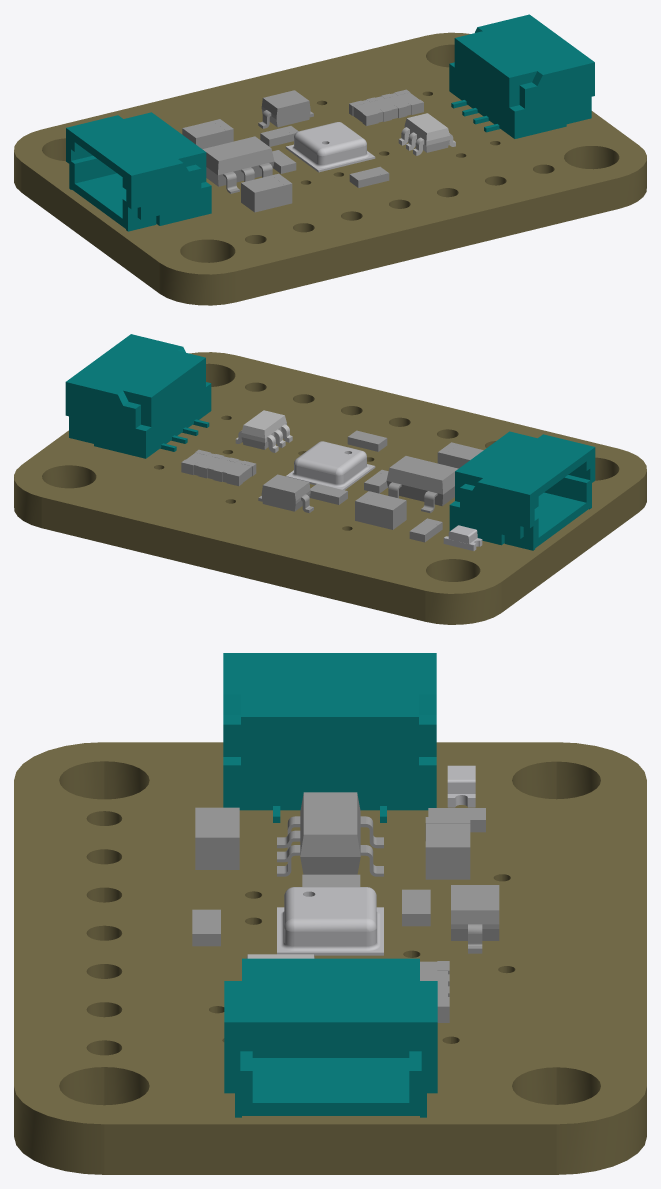
The model's file is ada-3660.glb.
3 views of the same model, one above another, from view 1: azimuth 30°, elevation 25°; view 2: azimuth 150°, elevation 25°; view 3: azimuth 270°, elevation 25° (orthographic). The views are drawn at different scales.
Visible parts, largest first — view 1: 0.16666666666666666_0.16666666666666666_0.08333333333333333_, 0_0.25_0.25_0, 0.3333333333333333_0.3333333333333333_0.3333333333333333_0, 0.5833333333333334_0.5833333333333334_0.5833333333333334_0.8, 0.5_0.5_0.5_0.85; view 2: 0.16666666666666666_0.16666666666666666_0.08333333333333333_, 0_0.25_0.25_0, 0.3333333333333333_0.3333333333333333_0.3333333333333333_0, 0.5833333333333334_0.5833333333333334_0.5833333333333334_0.8, 0.5_0.5_0.5_0.85; view 3: 0.16666666666666666_0.16666666666666666_0.08333333333333333_, 0_0.25_0.25_0, 0.3333333333333333_0.3333333333333333_0.3333333333333333_0, 0.5833333333333334_0.5833333333333334_0.5833333333333334_0.8.
Part boxes in pixels (box(x1,y1,x2,y2)): 0.16666666666666666_0.16666666666666666_0.08333333333333333_: box(14, 32, 646, 305); 0_0.25_0.25_0: box(66, 14, 594, 231); 0.3333333333333333_0.3333333333333333_0.3333333333333333_0: box(182, 89, 423, 212); 0.5833333333333334_0.5833333333333334_0.5833333333333334_0.8: box(285, 122, 375, 172); 0.5_0.5_0.5_0.85: box(398, 113, 455, 155); 0.16666666666666666_0.16666666666666666_0.08333333333333333_: box(14, 352, 646, 624); 0_0.25_0.25_0: box(65, 334, 595, 550); 0.3333333333333333_0.3333333333333333_0.3333333333333333_0: box(181, 430, 483, 542); 0.5833333333333334_0.5833333333333334_0.5833333333333334_0.8: box(286, 441, 482, 550); 0.5_0.5_0.5_0.85: box(235, 410, 292, 452); 0.16666666666666666_0.16666666666666666_0.08333333333333333_: box(14, 742, 646, 1174); 0_0.25_0.25_0: box(223, 653, 437, 1117); 0.3333333333333333_0.3333333333333333_0.3333333333333333_0: box(192, 792, 499, 1022); 0.5833333333333334_0.5833333333333334_0.5833333333333334_0.8: box(277, 765, 475, 955).
Bounding box in the file's own units: 2.54 × 0.4529 × 1.78.
